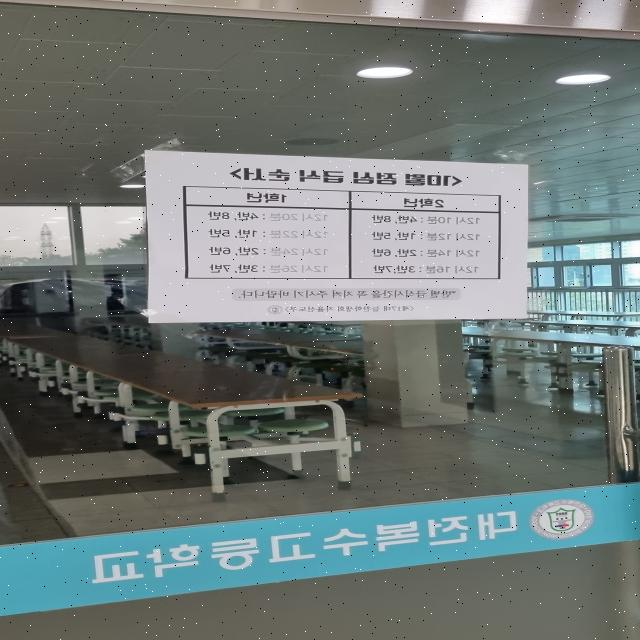logo: (524, 494, 597, 543), (267, 304, 285, 315)
